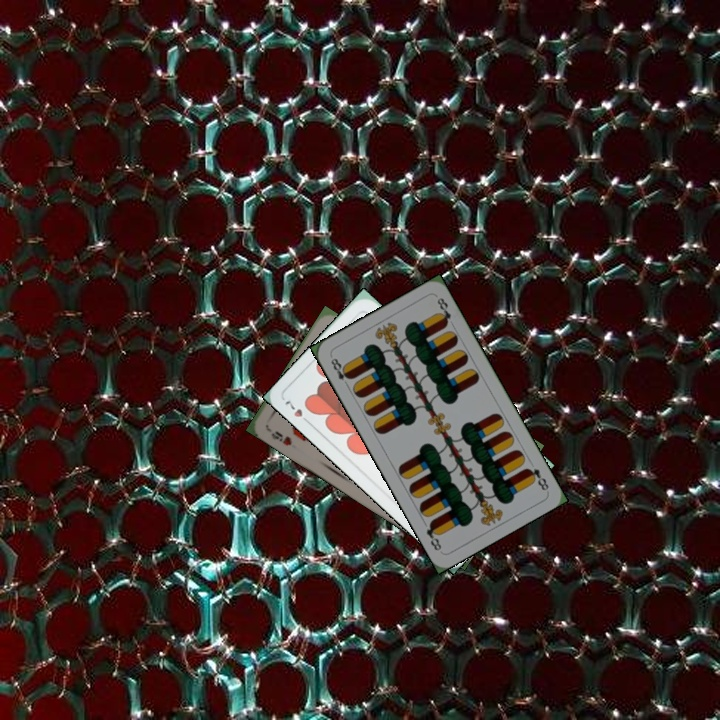E8: (327, 354, 354, 390), (522, 464, 551, 493)
H7: (280, 397, 313, 427)
H9: (263, 424, 294, 448)
